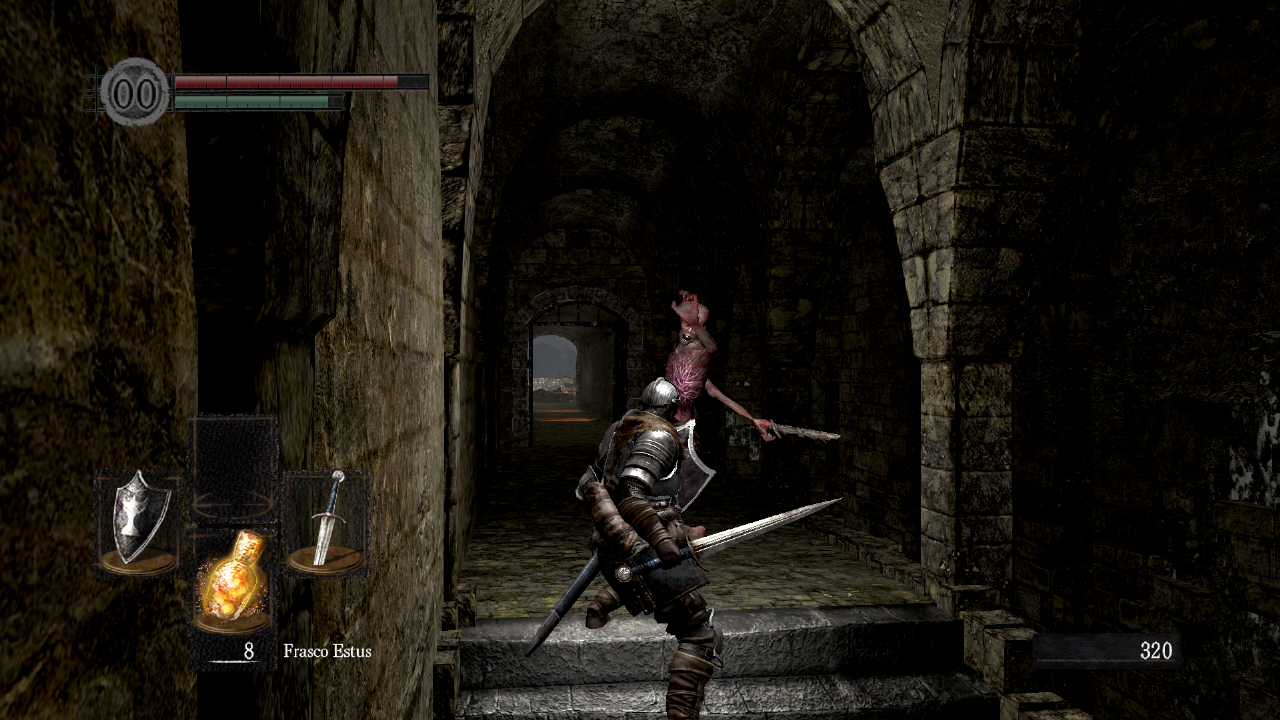hollow: (664, 289, 842, 563)
player: (525, 377, 844, 720)
